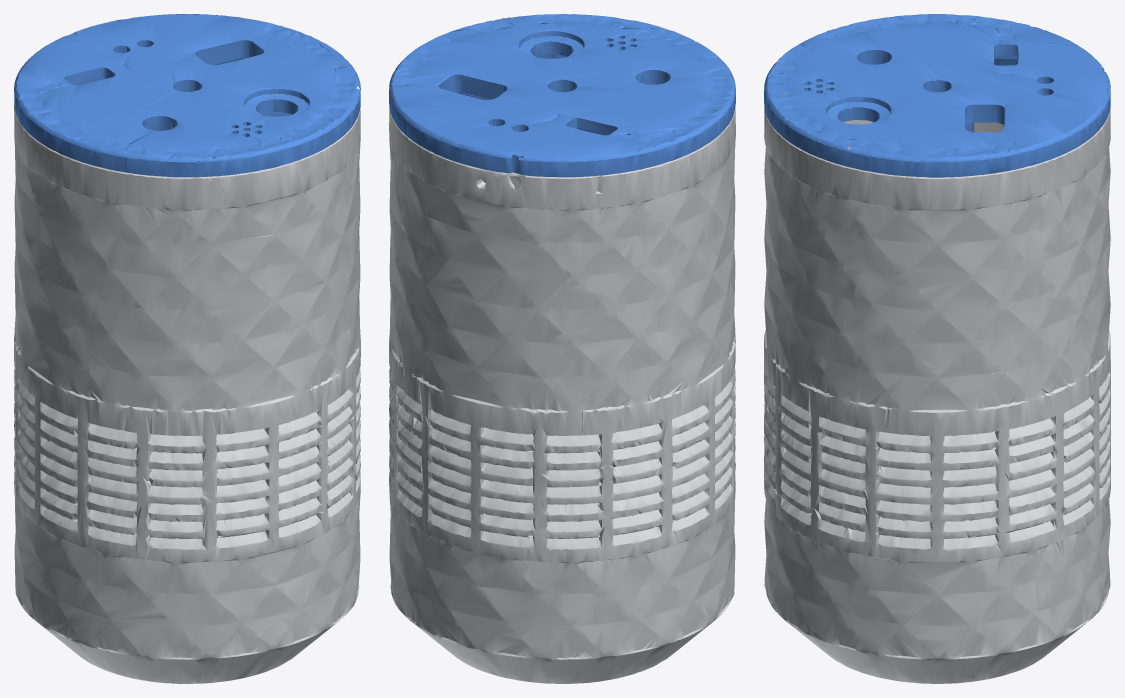
File: kaiper.glb
The picture shows the model from 3 angles, left to right: view 1: azimuth 30°, elevation 25°; view 2: azimuth 150°, elevation 25°; view 3: azimuth 270°, elevation 25°; orthographic projection.
Visible parts, largest first — view 1: shell, core; view 2: shell, core; view 3: shell, core.
Part boxes in pixels (x1,y1,x2,y2): shell: [14, 105, 360, 683]; core: [14, 14, 360, 506]; shell: [389, 105, 735, 683]; core: [389, 14, 735, 182]; shell: [764, 94, 1110, 683]; core: [764, 14, 1110, 177].
Size of the model in its own units: 0.066 by 0.115 by 0.066.
